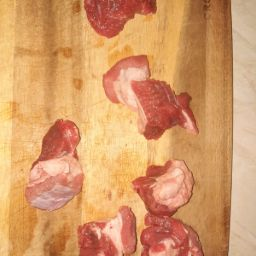Chicken Strips: (85, 51, 218, 153), (21, 108, 90, 227), (28, 206, 141, 256), (121, 147, 197, 220), (121, 198, 208, 256), (77, 2, 168, 41)
